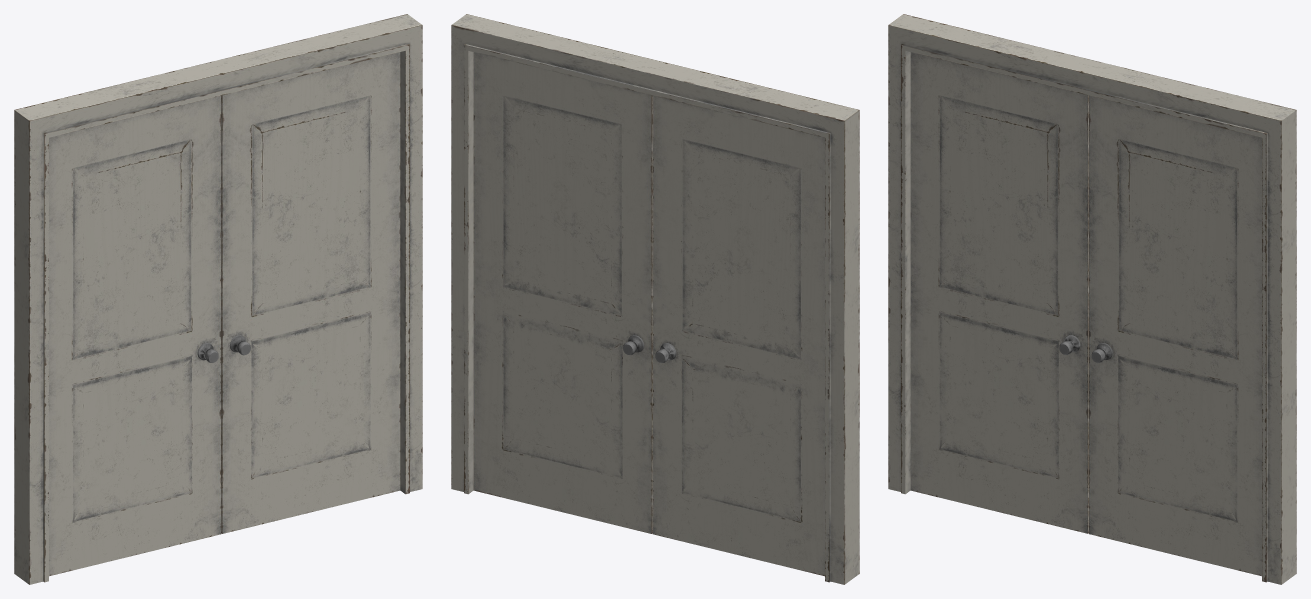
File: twodoortest.fbx
3 renders of one model, left to right at view 1: azimuth 30°, elevation 25°; view 2: azimuth 150°, elevation 25°; view 3: azimuth 330°, elevation 25°, orthographic.
Parts seen in each view (by area): view 1: Door_low.002_Door_0.003, Door_low.002_Door_0.004, Door_low.002_Door_0.002; view 2: Door_low.002_Door_0.003, Door_low.002_Door_0.004, Door_low.002_Door_0.002; view 3: Door_low.002_Door_0.004, Door_low.002_Door_0.003, Door_low.002_Door_0.002.
Boxes of the visible parts, bbox=[...] form: Door_low.002_Door_0.003: bbox=[221, 52, 400, 533]; Door_low.002_Door_0.004: bbox=[49, 96, 221, 576]; Door_low.002_Door_0.002: bbox=[14, 14, 422, 584]; Door_low.002_Door_0.003: bbox=[473, 52, 652, 533]; Door_low.002_Door_0.004: bbox=[652, 96, 824, 576]; Door_low.002_Door_0.002: bbox=[451, 14, 859, 584]; Door_low.002_Door_0.004: bbox=[910, 52, 1088, 533]; Door_low.002_Door_0.003: bbox=[1089, 95, 1261, 576]; Door_low.002_Door_0.002: bbox=[888, 14, 1296, 584].
Bounding box in the file's own units: 2.06 × 2.32 × 0.2148.
Materials: 1 (1 with a texture image).
